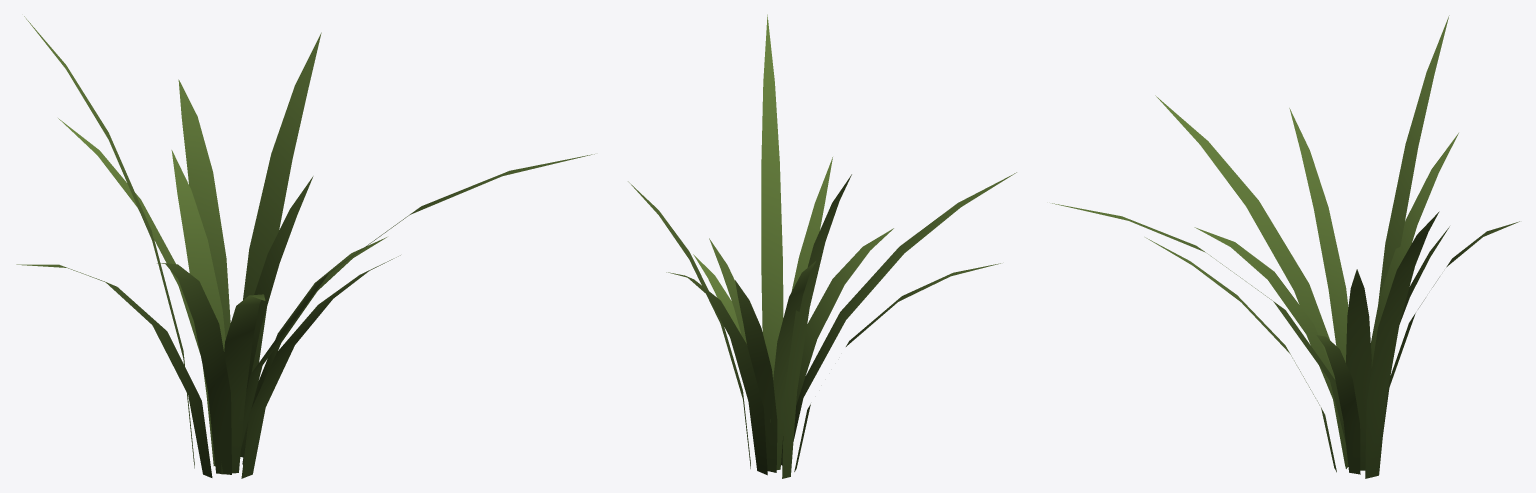
File: MeadowGrass_2_lod0.glb
The picture shows the model from 3 angles, left to right: view 1: azimuth 30°, elevation 25°; view 2: azimuth 150°, elevation 25°; view 3: azimuth 270°, elevation 25°; orthographic projection. The views are drawn at different scales.
Parts seen in each view (by area): view 1: MeadowGrass_2_lod0; view 2: MeadowGrass_2_lod0; view 3: MeadowGrass_2_lod0.
Part boxes in pixels (x1,y1,x2,y2): MeadowGrass_2_lod0: (16,16,594,478); MeadowGrass_2_lod0: (628,14,1016,478); MeadowGrass_2_lod0: (1052,15,1519,478).
Bounding box in the file's own units: 0.4211 × 0.4102 × 0.4527.
